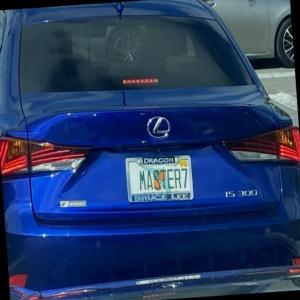Plate: (124, 154, 194, 203)
